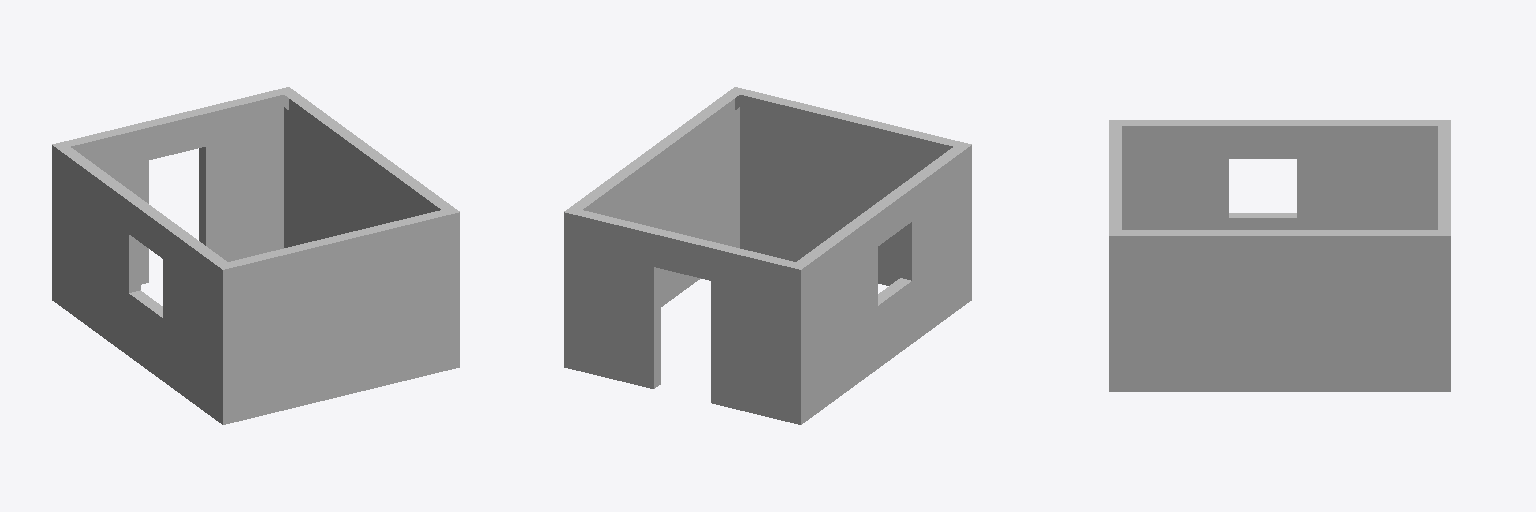
Rendered from walls.obj.
3 views of the same model, side by side, from view 1: azimuth 30°, elevation 25°; view 2: azimuth 150°, elevation 25°; view 3: azimuth 270°, elevation 25° (orthographic).
Visible parts, largest first — view 1: room_Cube.001; view 2: room_Cube.001; view 3: room_Cube.001.
Boxes of the visible parts, x1,y1,x2,y2 form: room_Cube.001: [52, 87, 459, 424]; room_Cube.001: [564, 87, 971, 424]; room_Cube.001: [1109, 120, 1450, 391].
Size of the model in its own units: 4 by 2.5 by 5.